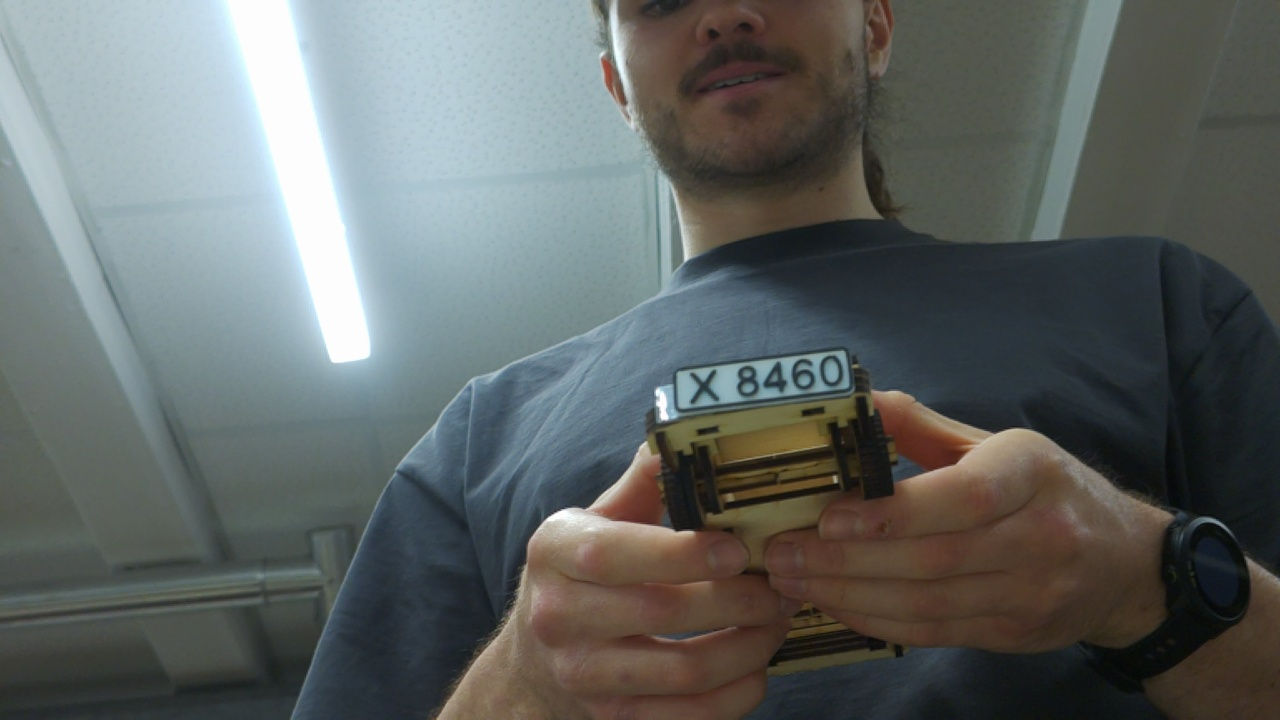license_plate: (671, 344, 864, 417)
